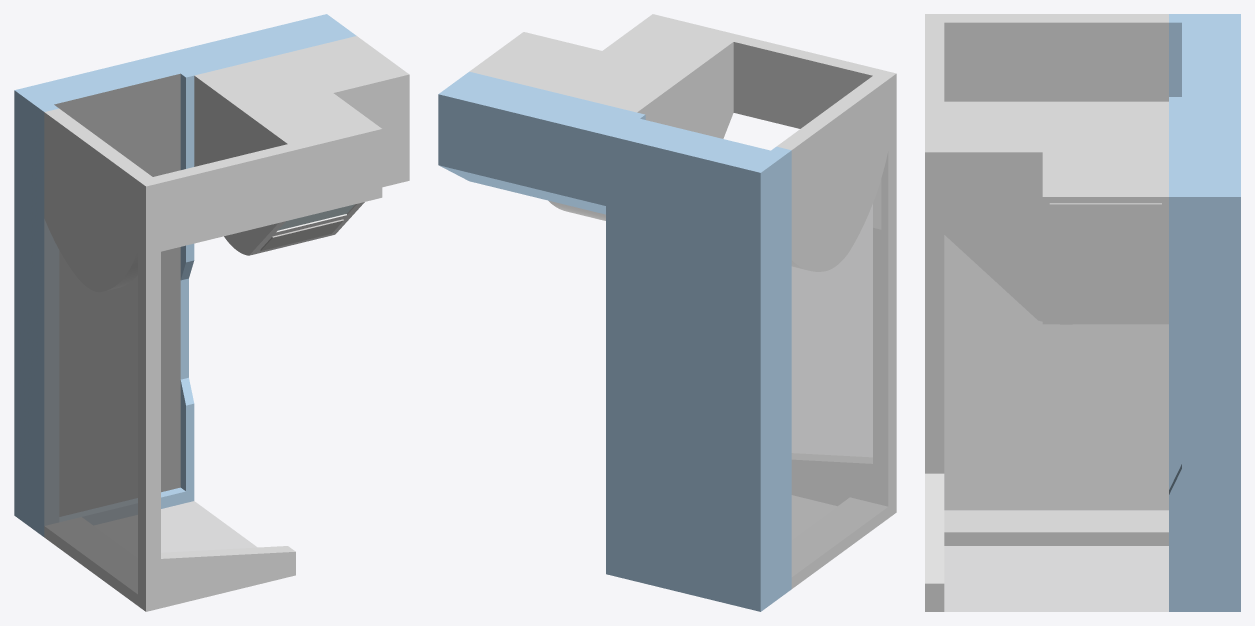
The model's file is self_bag_drop.dae.
3 views of the same model, side by side, from view 1: azimuth 30°, elevation 25°; view 2: azimuth 150°, elevation 25°; view 3: azimuth 270°, elevation 25° (orthographic). The views are drawn at different scales.
Parts seen in each view (by area): view 1: instance_0_002, instance_0_006, instance_0_009, instance_0_008, instance_0, instance_0_001; view 2: instance_0_006, instance_0_002, instance_0_009; view 3: instance_0_002, instance_0_009, instance_0_006.
Part boxes in pixels (x1=…): instance_0_002: x1=44, y1=36, x2=409, y2=611; instance_0_006: x1=14, y1=14, x2=356, y2=536; instance_0_009: x1=44, y1=219, x2=257, y2=594; instance_0_008: x1=54, y1=73, x2=180, y2=516; instance_0: x1=260, y1=219, x2=343, y2=250; instance_0_001: x1=278, y1=204, x2=354, y2=230; instance_0_006: x1=438, y1=71, x2=791, y2=611; instance_0_002: x1=469, y1=14, x2=896, y2=588; instance_0_009: x1=791, y1=151, x2=888, y2=576; instance_0_002: x1=925, y1=14, x2=1168, y2=611; instance_0_009: x1=944, y1=235, x2=1168, y2=611; instance_0_006: x1=1169, y1=14, x2=1240, y2=611.
Bounding box in the file's own units: 718 × 929 × 521.
